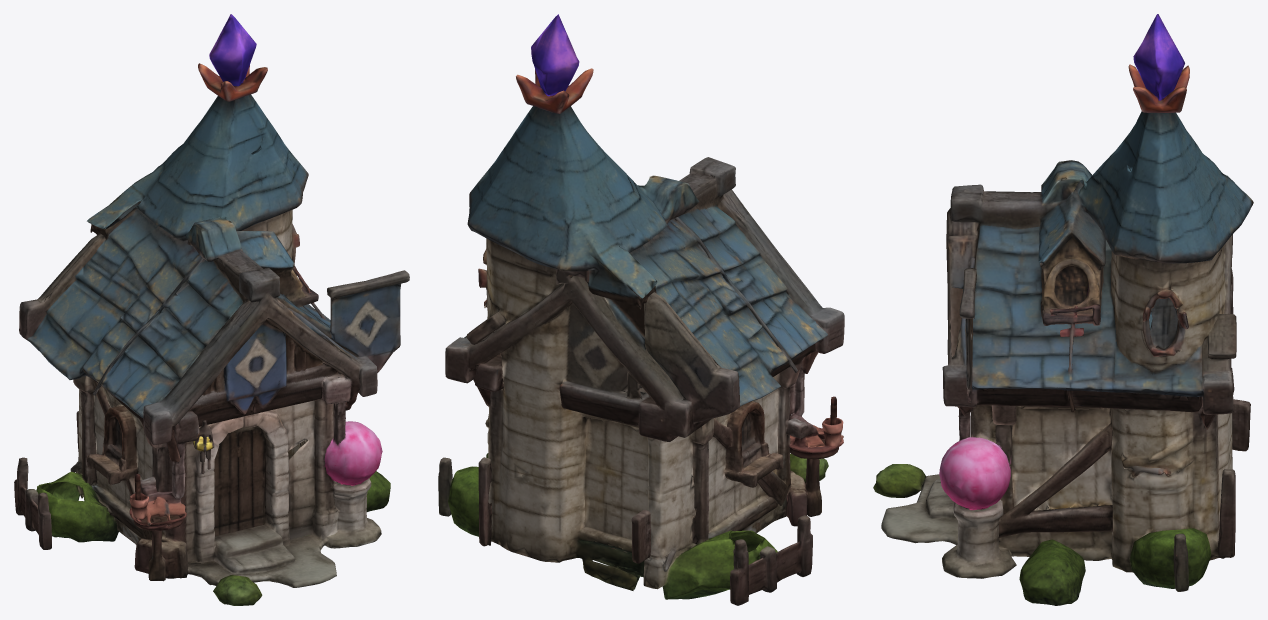
File: magic_academy.glb
3 views of the same model, side by side, from view 1: azimuth 30°, elevation 25°; view 2: azimuth 150°, elevation 25°; view 3: azimuth 270°, elevation 25° (orthographic). The views are drawn at different scales.
Visible parts, largest first — view 1: magic_academy_s7_fit; view 2: magic_academy_s7_fit; view 3: magic_academy_s7_fit.
Boxes of the visible parts, x1=… form: magic_academy_s7_fit: x1=14, y1=14, x2=409, y2=605; magic_academy_s7_fit: x1=438, y1=14, x2=844, y2=605; magic_academy_s7_fit: x1=873, y1=14, x2=1253, y2=605.
Size of the model in its own units: 3.98 by 5.83 by 3.66.
1 material, 1 textured.
